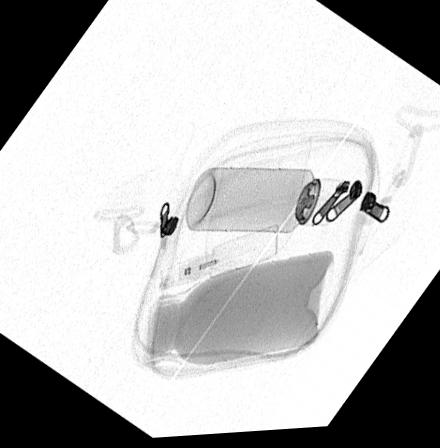Sprayer: (185, 170, 343, 237)
